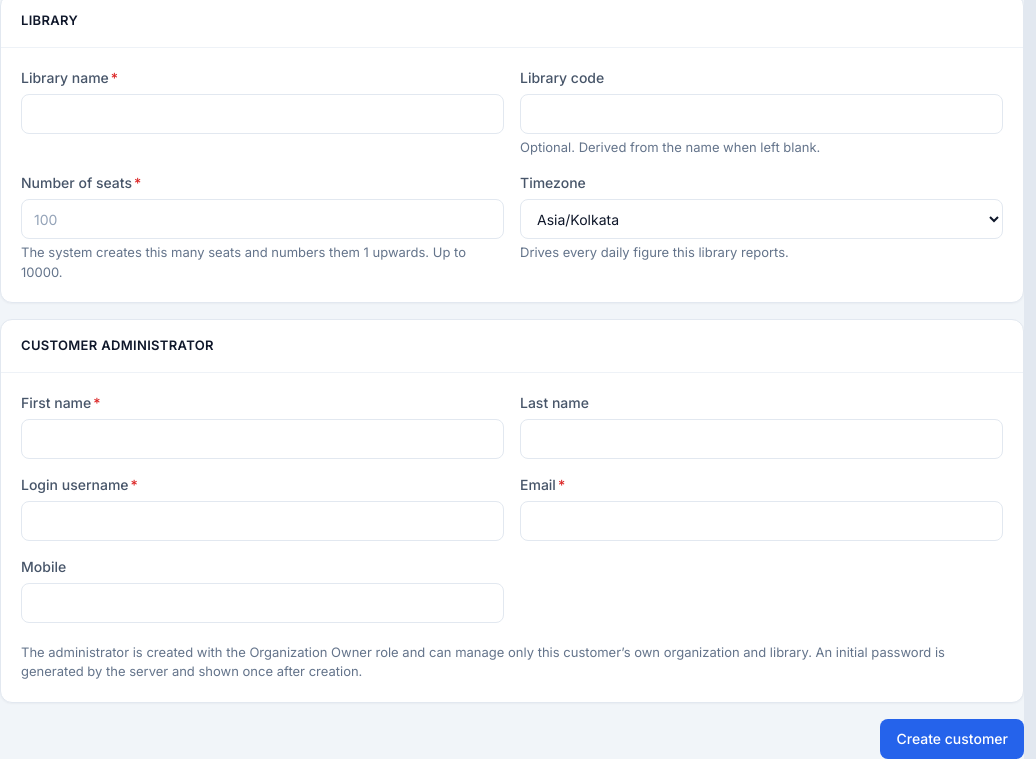
it: CustomerOnboardingForm › blocks submission until the required fields are present
The image size is (1036, 759).
(page scrolled)
Click the button "Create customer" at (952, 738), box [880,718,1024,758]
(page scrolled)
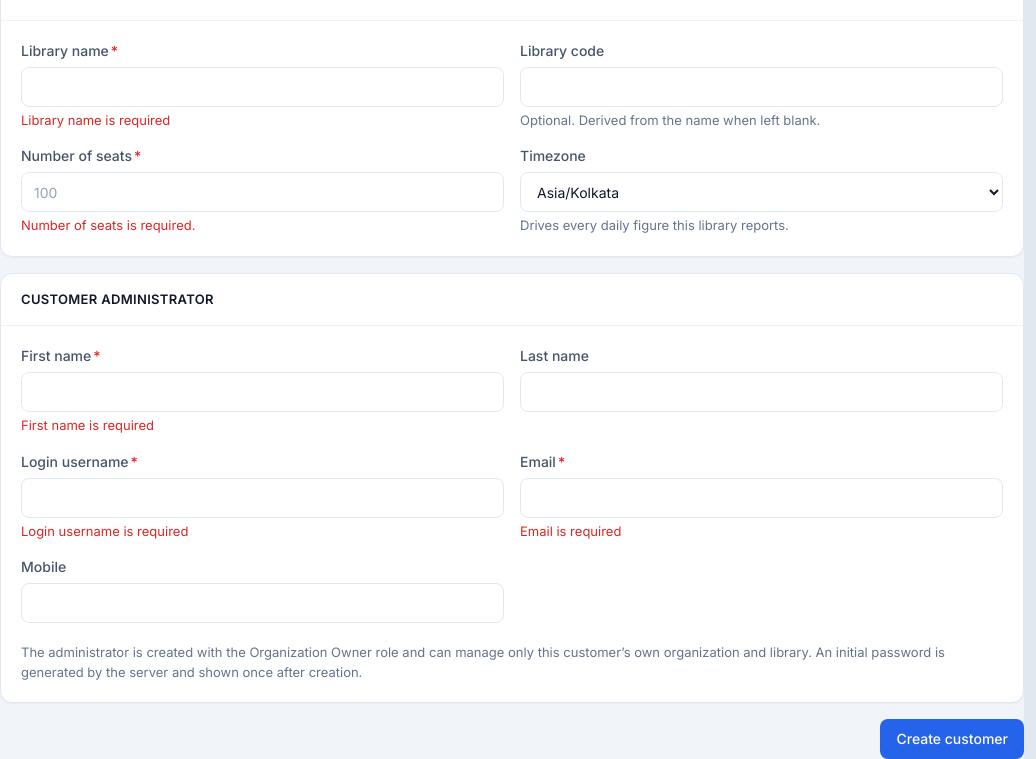
Expected: the text "Library name is required" is shown, [21,112,170,128]
Expected: the text "Login username is required" is shown, [21,522,188,538]
